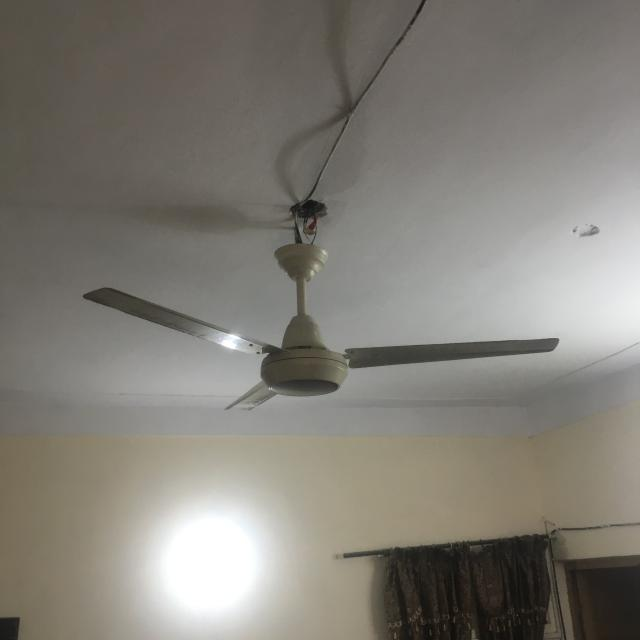off: (73, 267, 570, 424)
